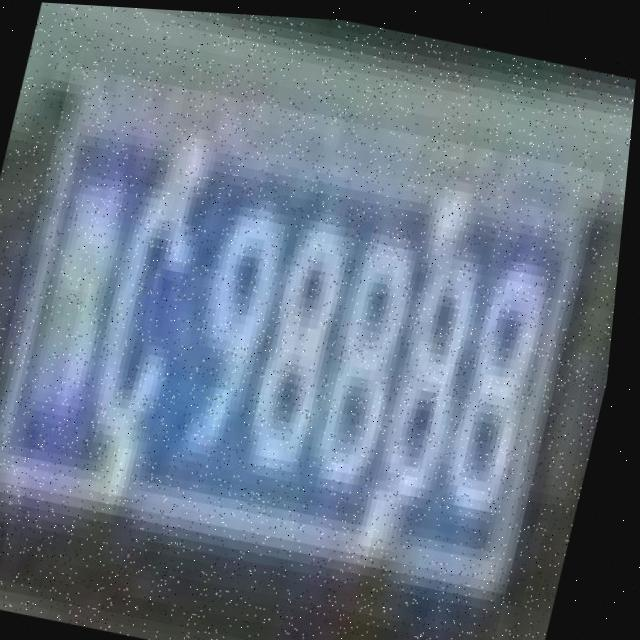LicensePlate: (0, 61, 613, 590)
